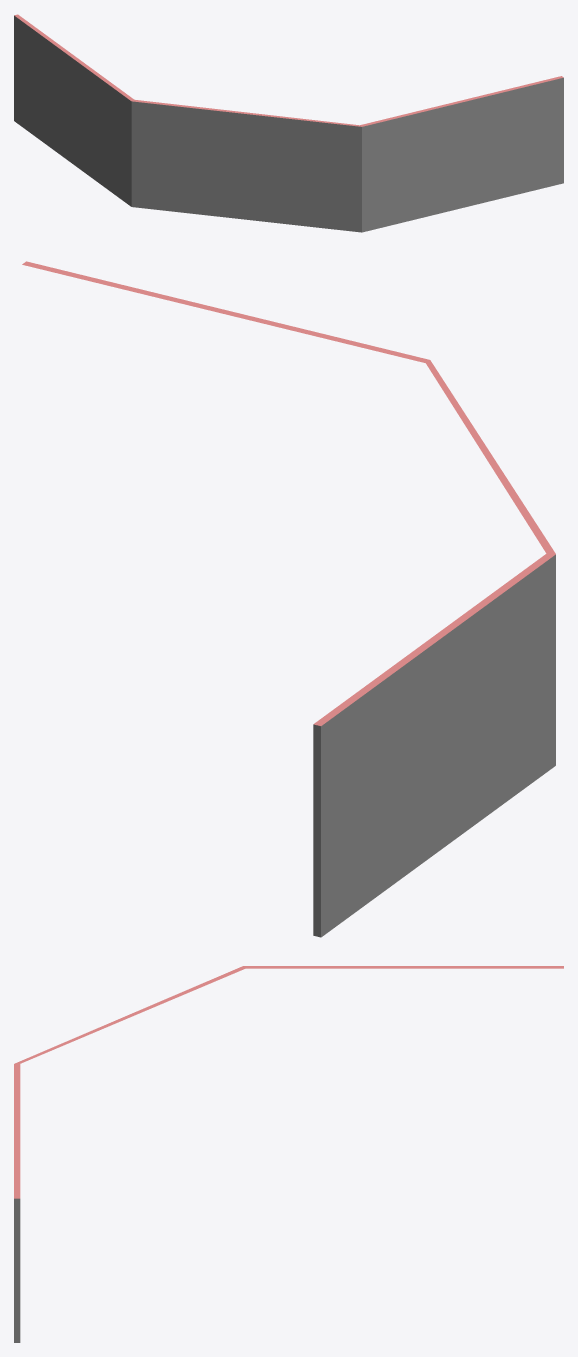
File: wall_deco_04.gltf
3 views of the same model, one above another, from view 1: azimuth 30°, elevation 25°; view 2: azimuth 150°, elevation 25°; view 3: azimuth 270°, elevation 25° (orthographic). The views are drawn at different scales.
Visible parts, largest first — view 1: wall_deco_04; view 2: wall_deco_04; view 3: wall_deco_04.
Boxes of the visible parts, box(x1,y1,x2,y2) form: wall_deco_04: box(14, 14, 563, 232); wall_deco_04: box(22, 261, 555, 937); wall_deco_04: box(14, 966, 563, 1342).
Bounding box in the file's own units: 4.42 × 1.28 × 4.42.
